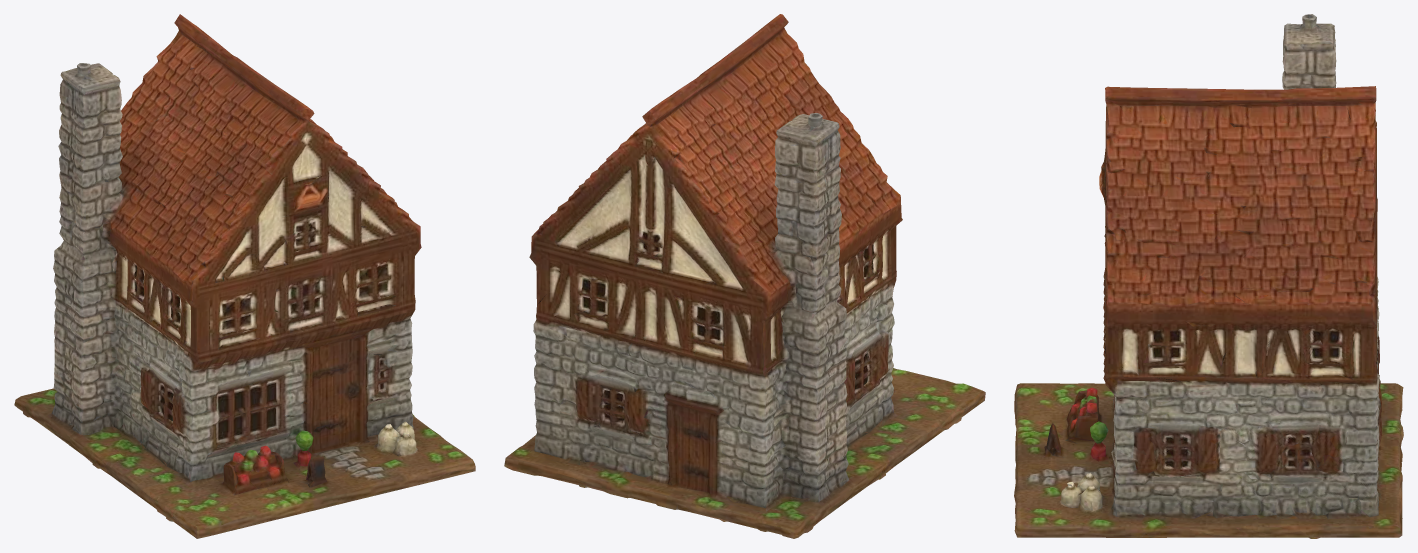
File: shop.glb
The picture shows the model from 3 angles, left to right: view 1: azimuth 30°, elevation 25°; view 2: azimuth 150°, elevation 25°; view 3: azimuth 270°, elevation 25°; orthographic projection. The views are drawn at different scales.
Parts seen in each view (by area): view 1: building_general_store; view 2: building_general_store; view 3: building_general_store.
Boxes of the visible parts, x1=… form: building_general_store: x1=14, y1=14, x2=475, y2=538; building_general_store: x1=504, y1=14, x2=985, y2=538; building_general_store: x1=1014, y1=14, x2=1403, y2=538.
Size of the model in its own units: 5.8 by 7.18 by 6.5.
1 material, 1 textured.
